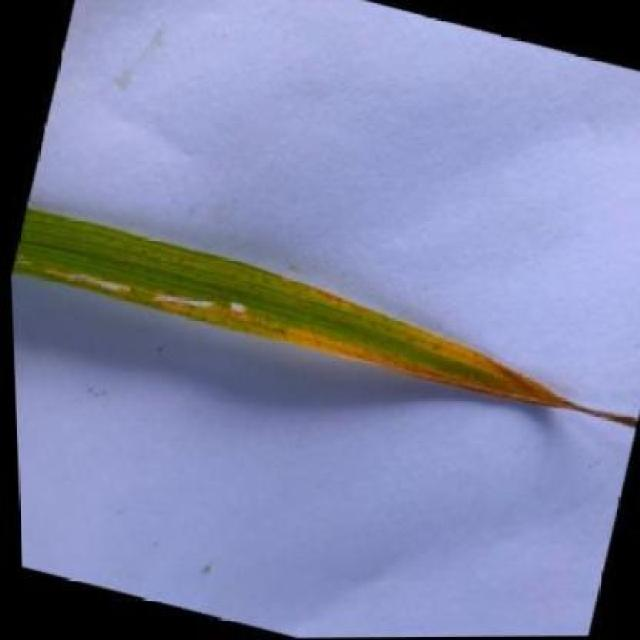Rice False Smut: (7, 197, 628, 434)
